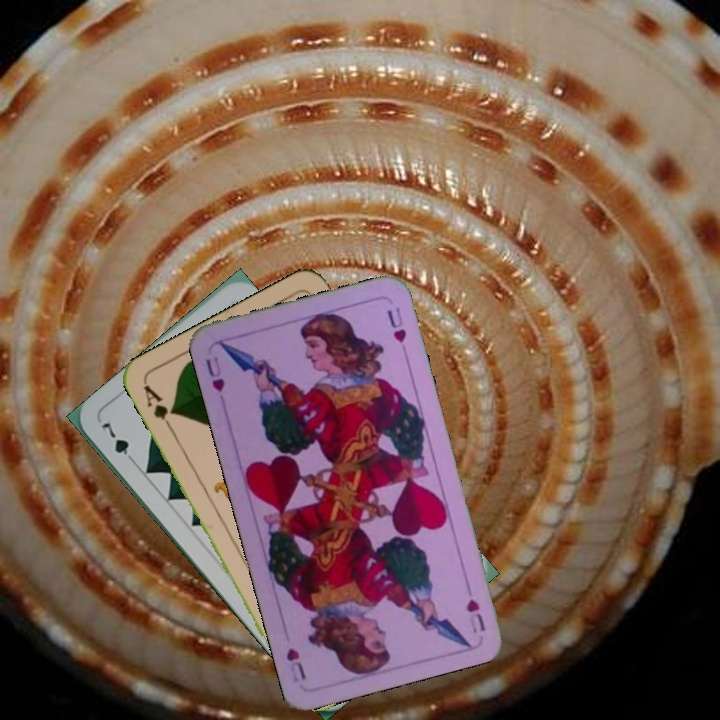G7: (97, 418, 139, 467)
GA: (139, 380, 177, 434)
HU: (201, 352, 227, 395), (462, 594, 488, 636)
